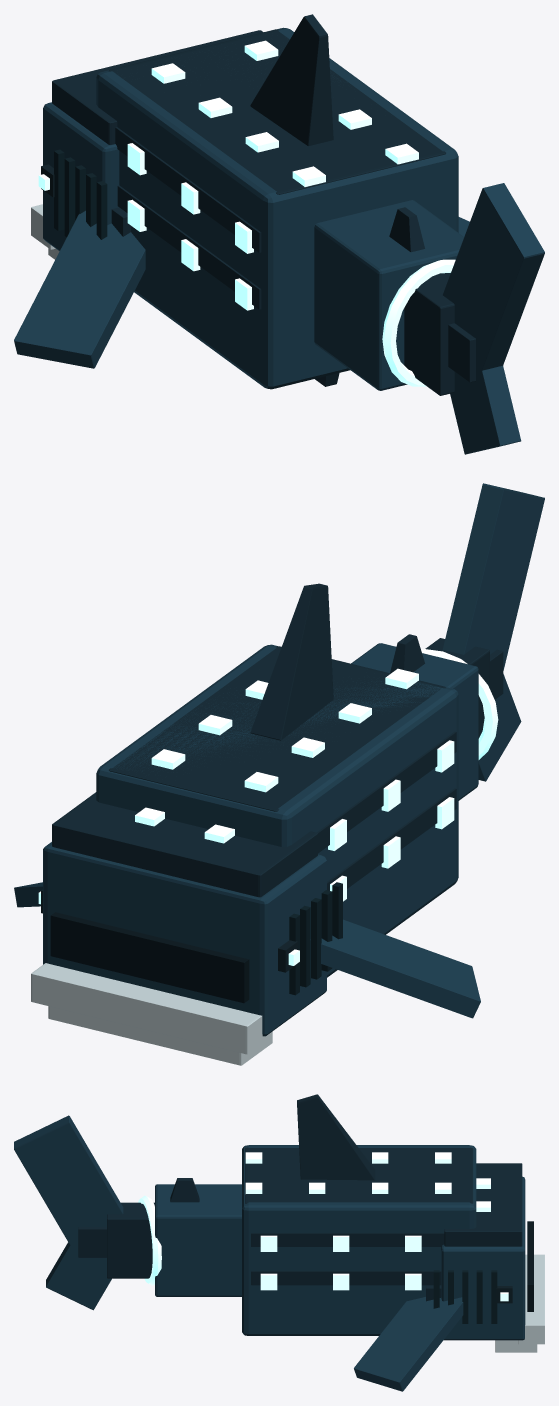
The model's file is whale-shark.glb.
3 renders of one model, top to bottom at view 1: azimuth 30°, elevation 25°; view 2: azimuth 150°, elevation 25°; view 3: azimuth 270°, elevation 25°, orthographic. The views are drawn at different scales.
Visible parts, largest first — view 1: body, fin.tail, fin.R, head; view 2: body, head, fin.tail, fin.R; view 3: body, head, fin.tail, fin.L.
Part boxes in pixels (<box>): body: <box>96,14,464,395</box>; fin.tail: <box>443,183,544,454</box>; fin.R: <box>14,207,145,368</box>; head: <box>31,30,263,259</box>; body: <box>96,583,498,977</box>; head: <box>31,792,342,1065</box>; fin.tail: <box>442,483,544,781</box>; fin.R: <box>310,919,480,1018</box>; body: <box>107,1094,476,1335</box>; head: <box>433,1163,544,1352</box>; fin.tail: <box>14,1115,123,1310</box>; fin.L: <box>354,1285,463,1391</box>.
Size of the model in its own units: 1.38 by 1 by 2.03.
